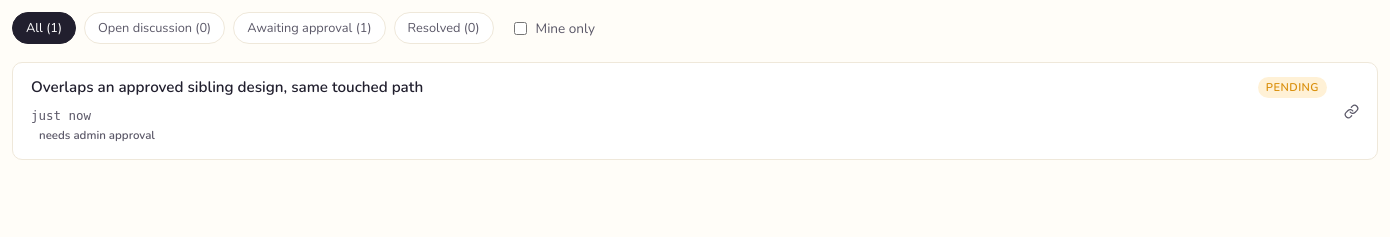
ConflictsView › an admin can approve a pending review, which then moves to Resolved
Step 1. Click the 5th button → (227, 87), box [13, 63, 1377, 159]
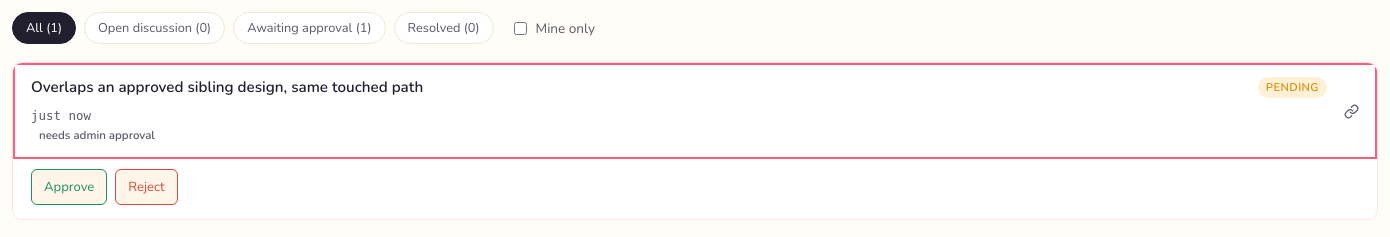
Step 2. Click the button "Approve" → (69, 187), box [31, 169, 107, 205]
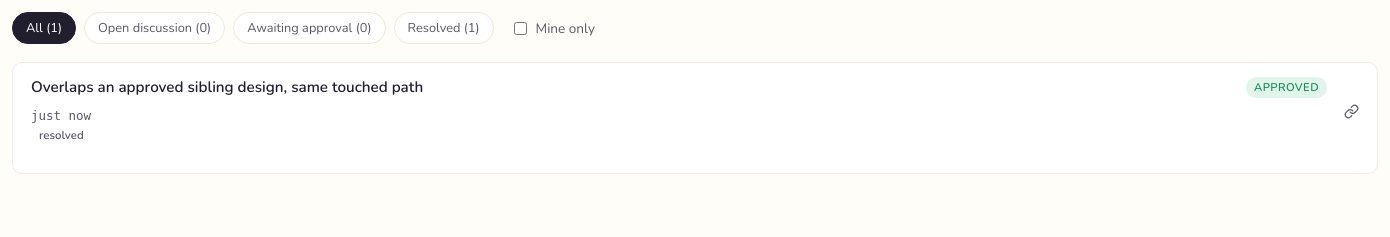
Expected: the text "approved" is shown, [1246, 77, 1327, 98]
